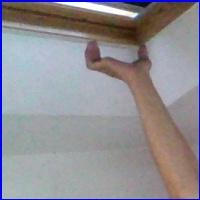space: (82, 29, 157, 87)
